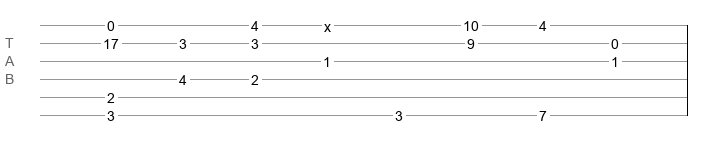0: (107, 18, 115, 28), (611, 36, 619, 46)
1: (323, 54, 331, 64), (611, 54, 619, 64)
10: (463, 18, 479, 28)
17: (103, 36, 119, 46)
2: (107, 90, 115, 100), (251, 72, 259, 82)
3: (107, 108, 115, 118), (179, 36, 187, 46), (251, 36, 259, 46), (395, 108, 403, 118)
4: (179, 72, 187, 82), (251, 18, 259, 28), (539, 18, 547, 28)
7: (539, 108, 547, 118)
9: (467, 36, 475, 46)
x: (324, 19, 331, 27)
